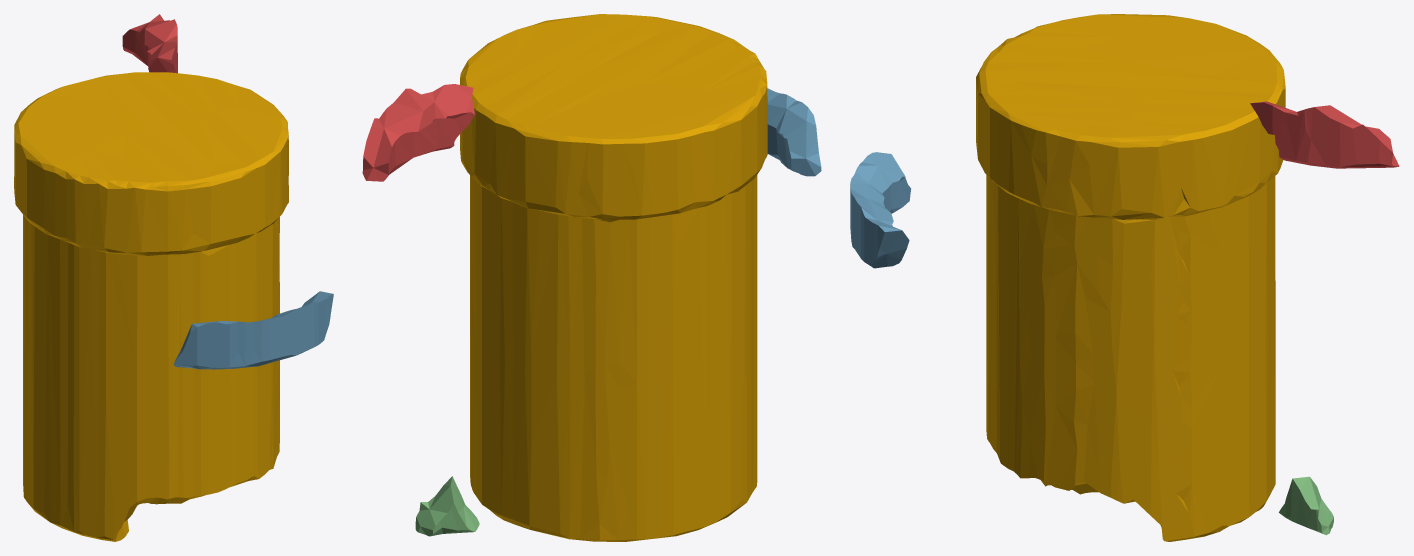
File: fractured_0_4pcs_transformed.glb
The picture shows the model from 3 angles, left to right: view 1: azimuth 30°, elevation 25°; view 2: azimuth 150°, elevation 25°; view 3: azimuth 270°, elevation 25°; orthographic projection. The views are drawn at different scales.
Parts seen in each view (by area): view 1: piece_0.obj, piece_2.obj, piece_1.obj; view 2: piece_0.obj, piece_1.obj, piece_2.obj, piece_3.obj; view 3: piece_0.obj, piece_1.obj, piece_2.obj, piece_3.obj.
Part boxes in pixels (box(x1,y1,x2,y2)): piece_0.obj: box(14, 72, 288, 541); piece_2.obj: box(174, 291, 333, 369); piece_1.obj: box(122, 14, 177, 73); piece_0.obj: box(460, 14, 767, 541); piece_1.obj: box(362, 84, 474, 181); piece_2.obj: box(767, 88, 821, 176); piece_3.obj: box(415, 476, 479, 536); piece_0.obj: box(976, 14, 1285, 541); piece_1.obj: box(1250, 101, 1399, 168); piece_2.obj: box(850, 152, 911, 268); piece_3.obj: box(1279, 476, 1333, 535).
Size of the model in its own units: 0.6842 by 1.06 by 1.21.
